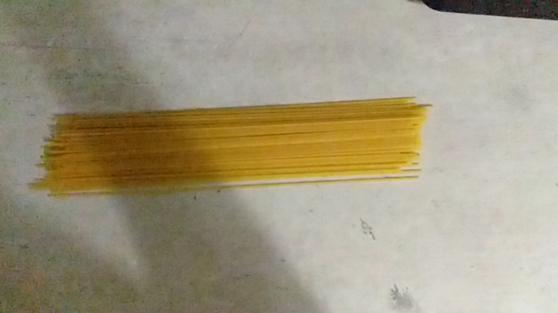spaghetti: (29, 91, 441, 206)
